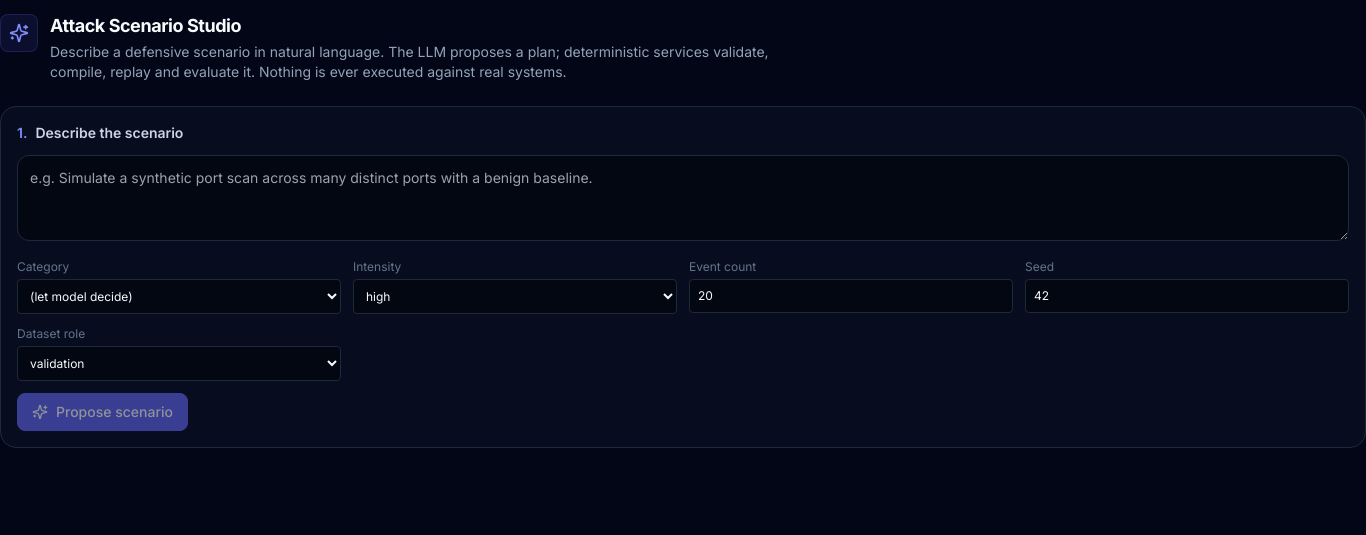
Test: ScenarioStudioPage (Phase 7) › enables Propose once text is entered and shows the honest 503 message without a fabricated proposal
The image size is (1366, 535).
Replace the text in the text box named "Scenario request" with "Simulate a synthetic port scan with a benign baseline." at (683, 198), box [17,155,1349,241]
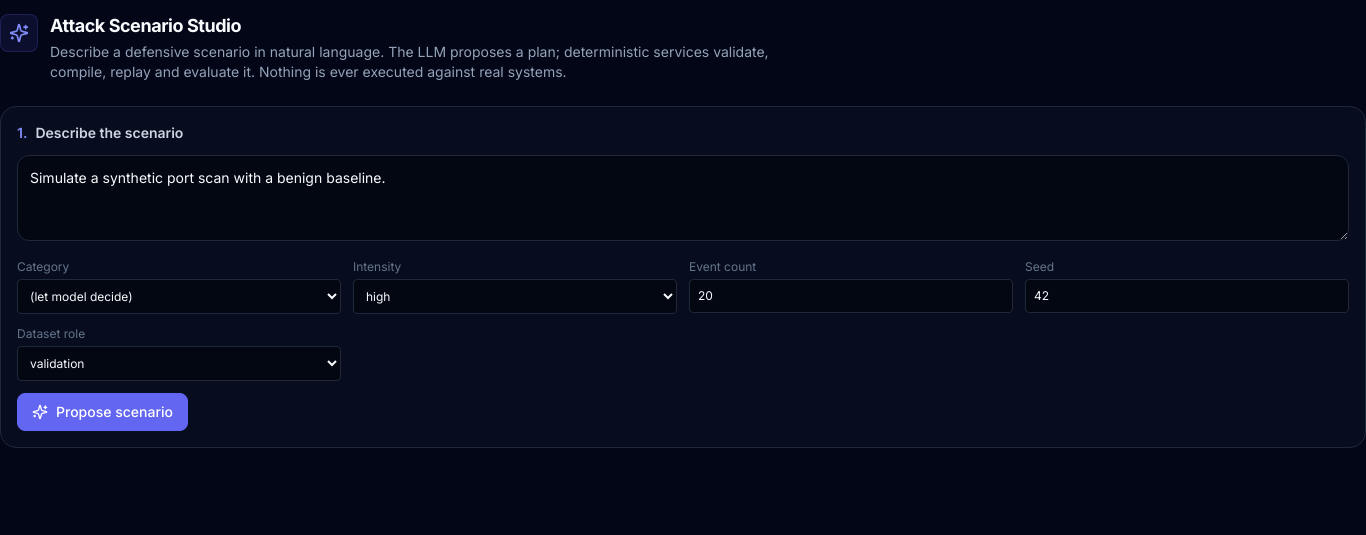
Result: the button "Propose scenario" is enabled
Click the button "Propose scenario" at (102, 412), box [17,393,188,431]
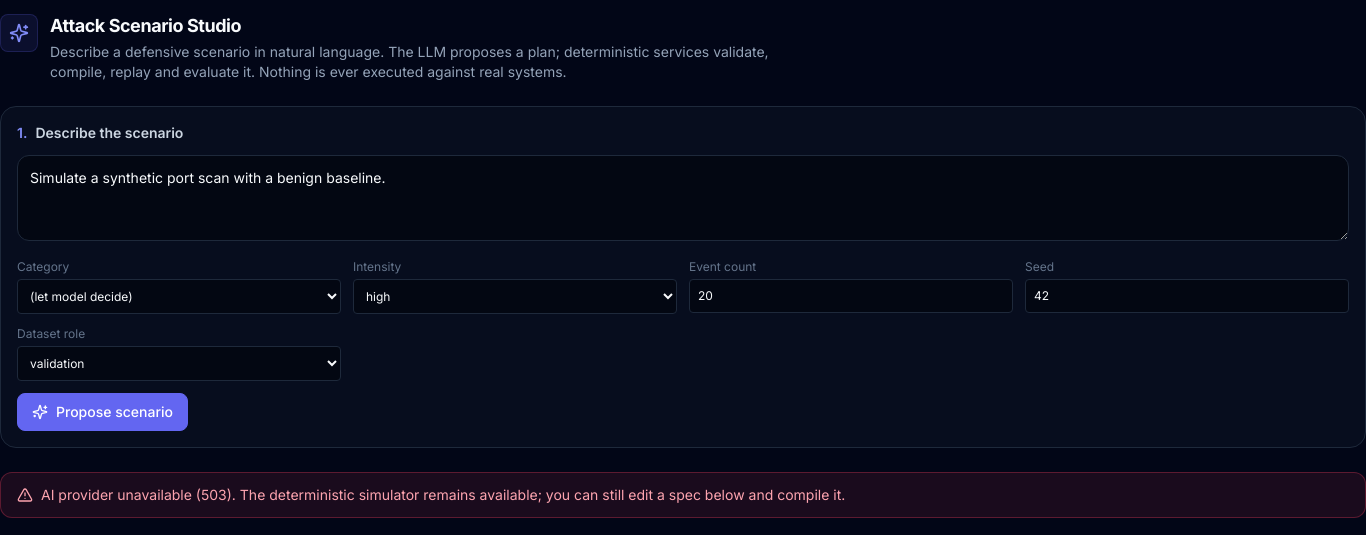
Result: the message shows "AI provider unavailable (503). The deterministic simulator remains available" at [41,486,845,503]
